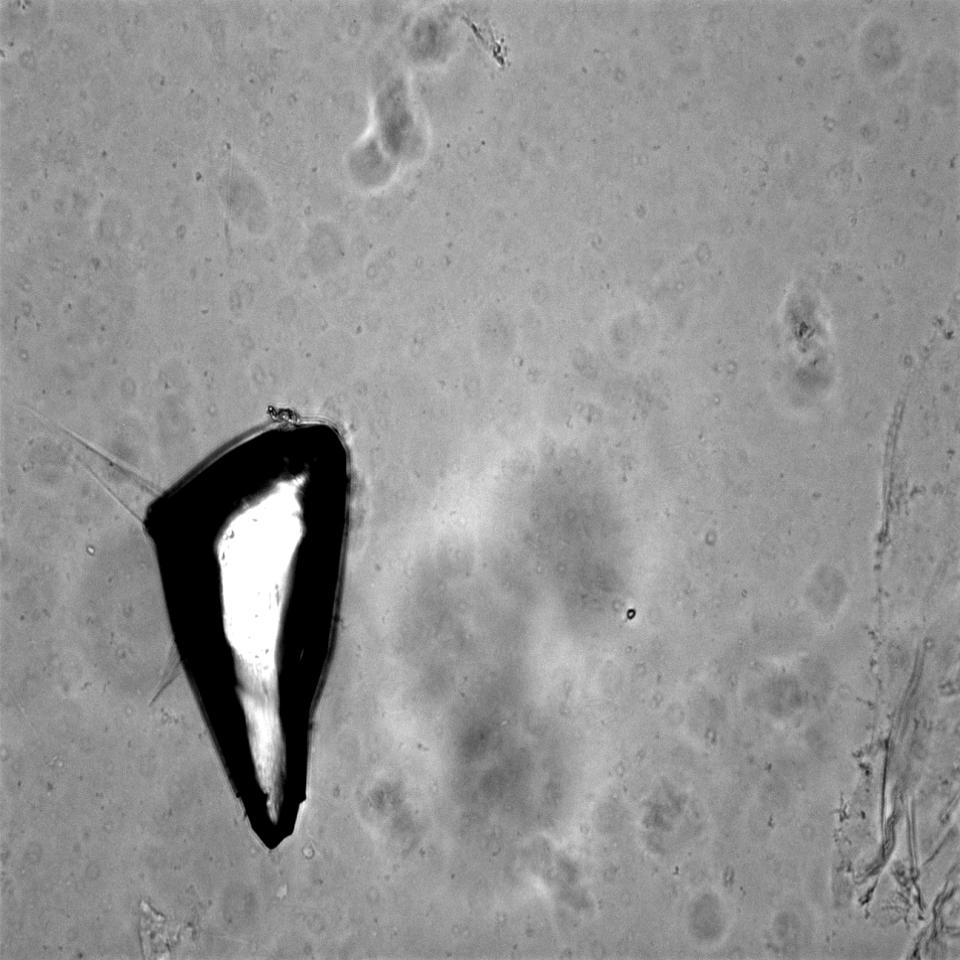crystal: (130, 412, 374, 853)
